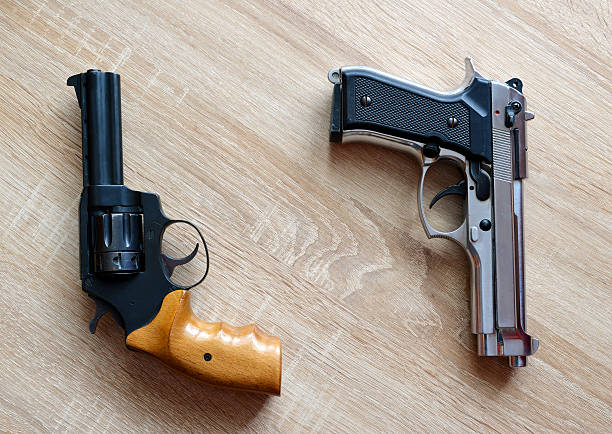gun: (67, 65, 284, 393), (330, 55, 540, 372)
